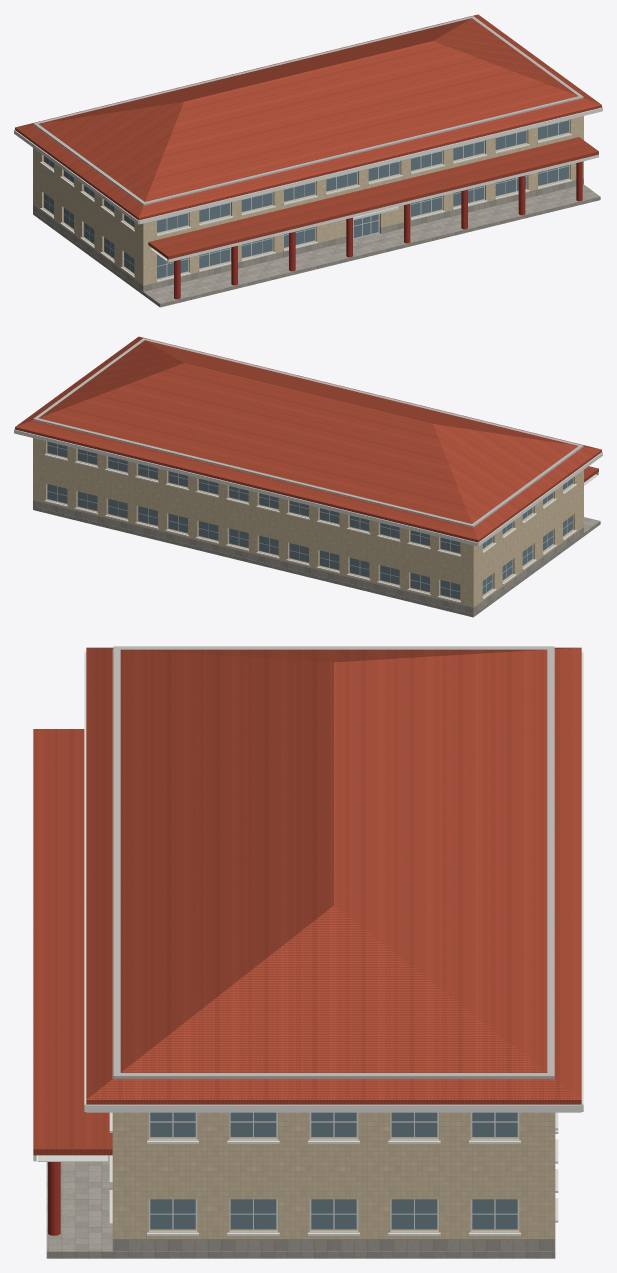
3 views of the same model, one above another, from view 1: azimuth 30°, elevation 25°; view 2: azimuth 150°, elevation 25°; view 3: azimuth 270°, elevation 25° (orthographic). The views are drawn at different scales.
Visible parts, largest first — view 1: yedo__roof, yedo__tile, yedo__stone, yedo__glass, yedo__trim, yedo__slab, yedo__frame, yedo__redcol; view 2: yedo__roof, yedo__tile, yedo__glass, yedo__stone, yedo__trim, yedo__slab, yedo__frame; view 3: yedo__roof, yedo__tile, yedo__stone, yedo__glass, yedo__slab, yedo__trim, yedo__frame, yedo__redcol.
Boxes of the visible parts, <box> form: yedo__roof: <box>15,14,601,259</box>; yedo__tile: <box>33,99,583,285</box>; yedo__stone: <box>33,178,600,307</box>; yedo__glass: <box>44,120,568,278</box>; yedo__trim: <box>14,107,602,282</box>; yedo__slab: <box>33,16,583,205</box>; yedo__frame: <box>43,119,569,279</box>; yedo__redcol: <box>174,161,582,299</box>; yedo__roof: <box>15,336,601,542</box>; yedo__tile: <box>33,420,583,607</box>; yedo__glass: <box>47,442,572,599</box>; yedo__stone: <box>33,500,600,617</box>; yedo__trim: <box>14,429,602,602</box>; yedo__slab: <box>33,338,583,527</box>; yedo__frame: <box>47,441,573,599</box>; yedo__roof: <box>33,647,581,1155</box>; yedo__tile: <box>112,649,555,1239</box>; yedo__stone: <box>46,1155,555,1258</box>; yedo__glass: <box>150,1112,517,1229</box>; yedo__slab: <box>113,646,554,1078</box>; yedo__trim: <box>33,652,583,1235</box>; yedo__frame: <box>148,1112,519,1230</box>; yedo__redcol: <box>48,1162,60,1235</box>.
Size of the model in its own units: 48.6 by 12.96 by 24.9.
9 materials, 3 textured.
